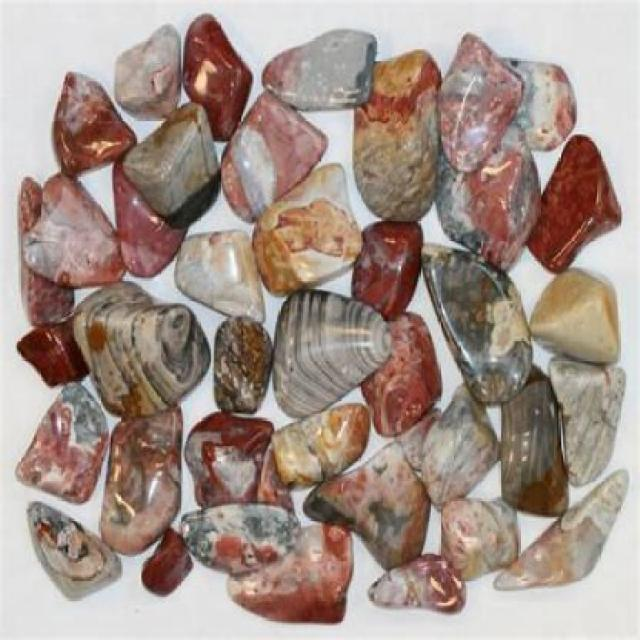rock: (71, 273, 211, 419), (415, 240, 531, 409), (298, 438, 432, 577), (488, 467, 630, 596), (431, 107, 540, 271), (268, 280, 392, 422), (349, 46, 443, 220), (218, 86, 331, 225), (250, 160, 362, 298), (224, 514, 358, 624), (522, 132, 624, 274), (94, 400, 184, 558), (18, 168, 130, 289), (437, 30, 528, 175), (120, 97, 218, 231), (8, 381, 110, 502), (417, 377, 501, 515), (542, 352, 626, 486), (498, 365, 570, 520), (358, 310, 442, 439), (22, 497, 126, 601), (522, 264, 621, 368), (48, 66, 138, 180), (168, 224, 270, 324), (259, 22, 375, 108), (115, 153, 192, 279), (182, 7, 252, 145), (270, 400, 375, 491), (14, 176, 78, 324), (176, 499, 304, 573), (488, 52, 578, 153), (181, 411, 274, 506), (432, 490, 520, 581), (346, 216, 422, 319), (110, 19, 182, 122), (212, 312, 274, 423), (362, 552, 472, 610), (9, 314, 94, 388), (138, 526, 190, 596)
